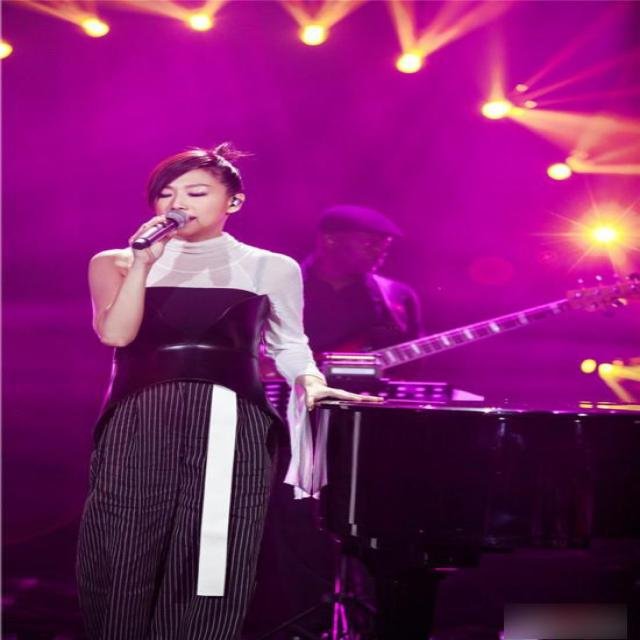obstacle: (69, 129, 316, 640)
